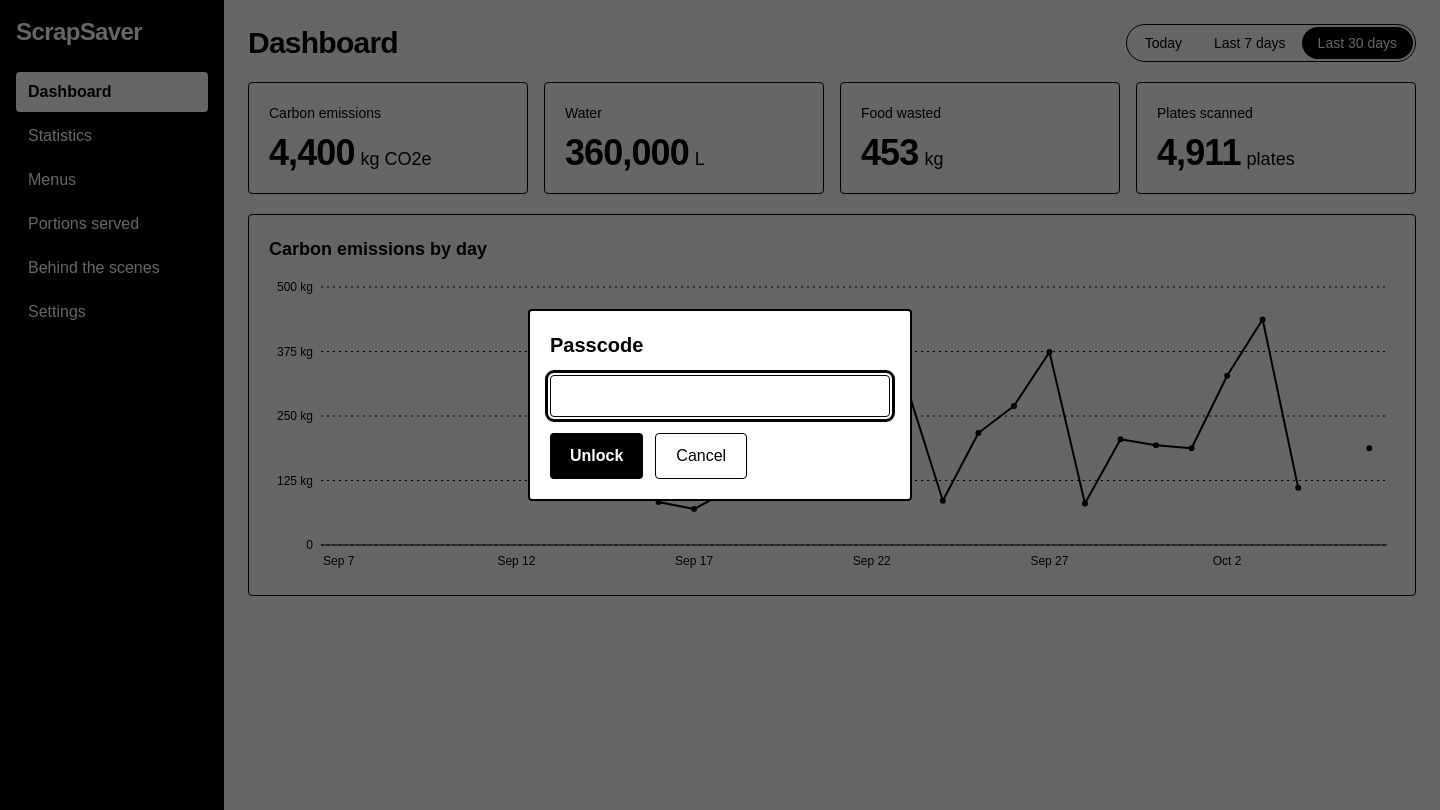
Test: owner access › the passcode prompt rejects an empty or wrong passcode and unlocks with the right one
Click the button "Unlock" at (597, 456), box [550,433,643,479]
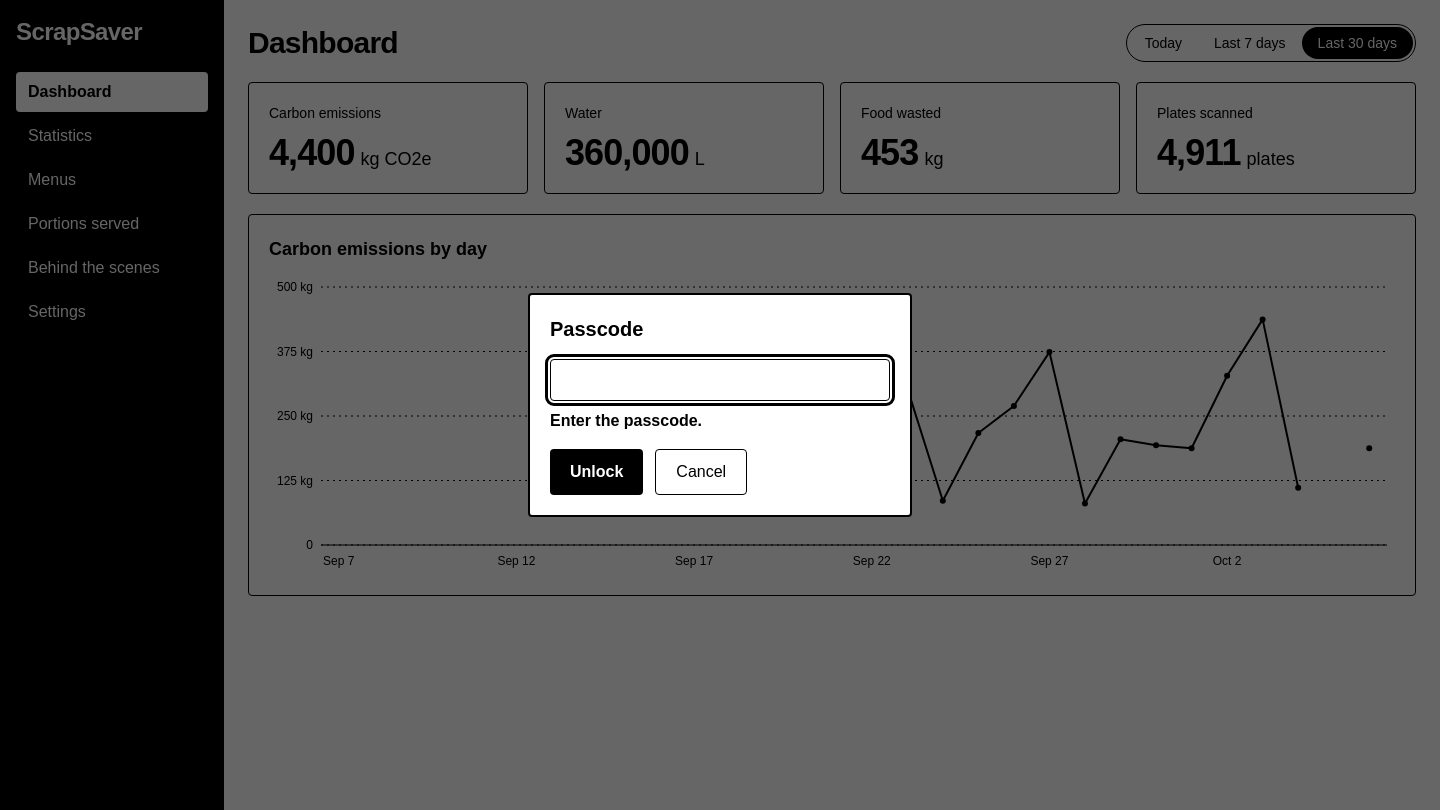
Result: the message reads "Enter the passcode." at [550,412,702,429]
Type "wrong" into the password field named "Passcode" at (720, 380), box [550,359,890,401]
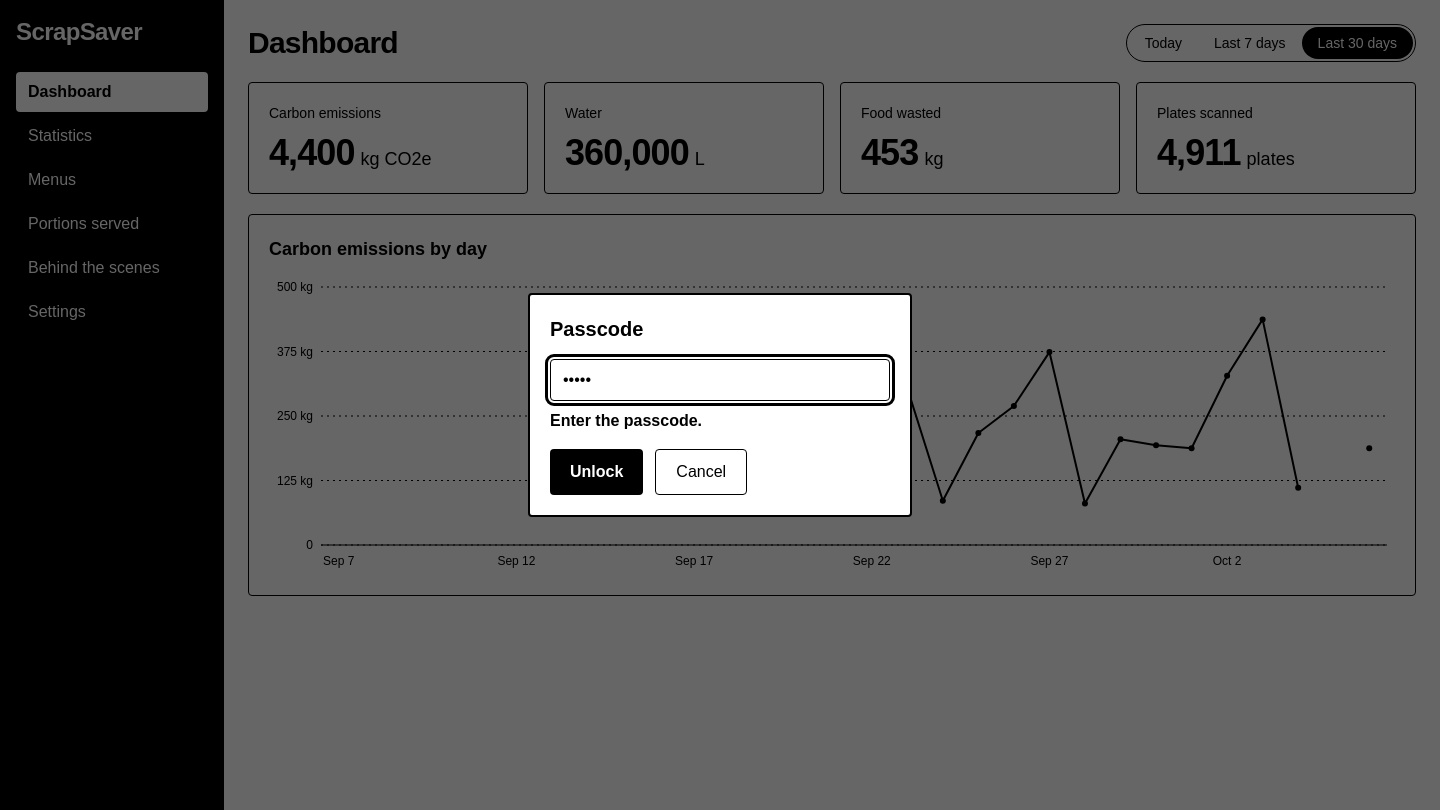
Click the button "Unlock" at (597, 472), box [550,449,643,495]
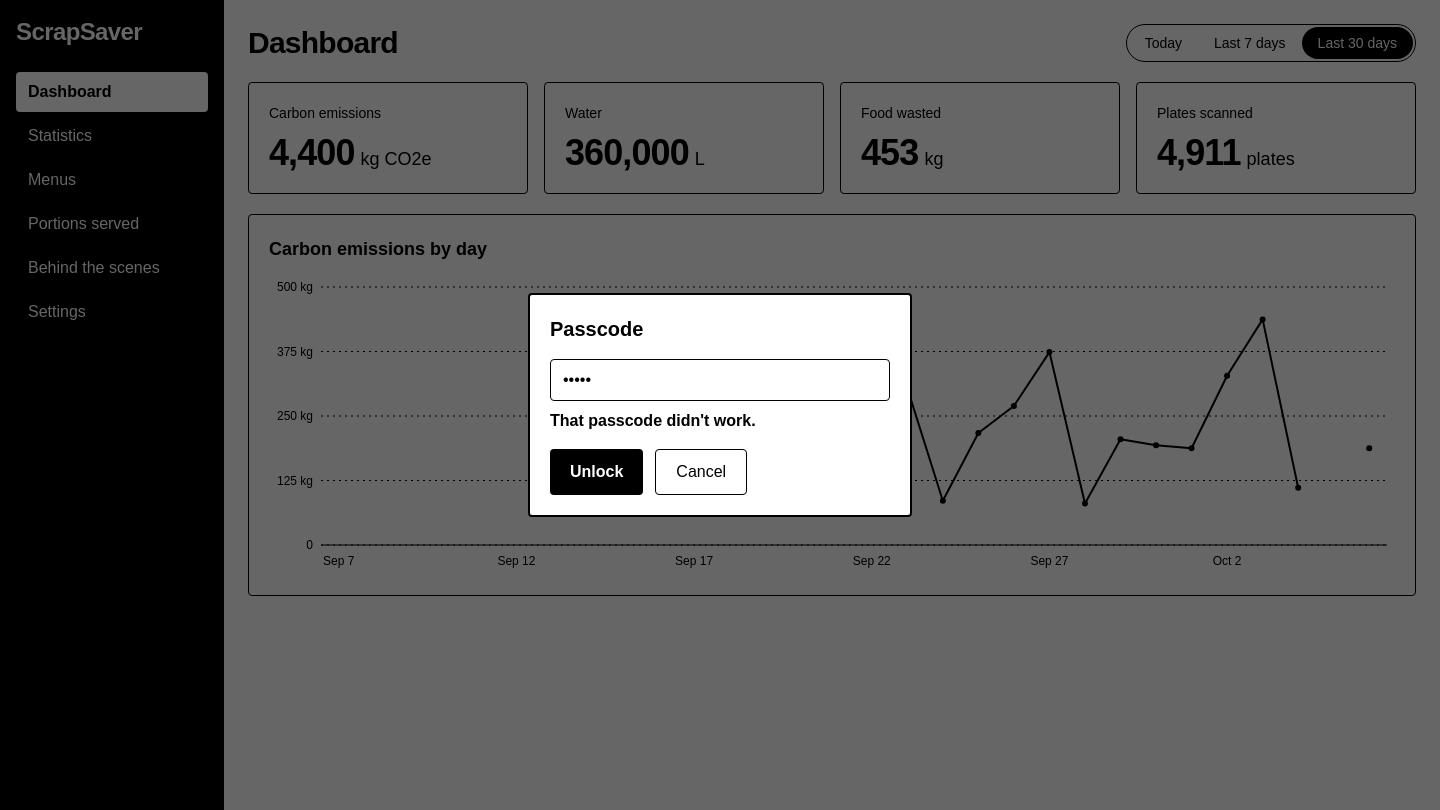
Result: the message reads "That passcode didn't work." at [550,412,756,429]
Type "scrapsaver" into the password field named "Passcode" at (720, 380), box [550,359,890,401]
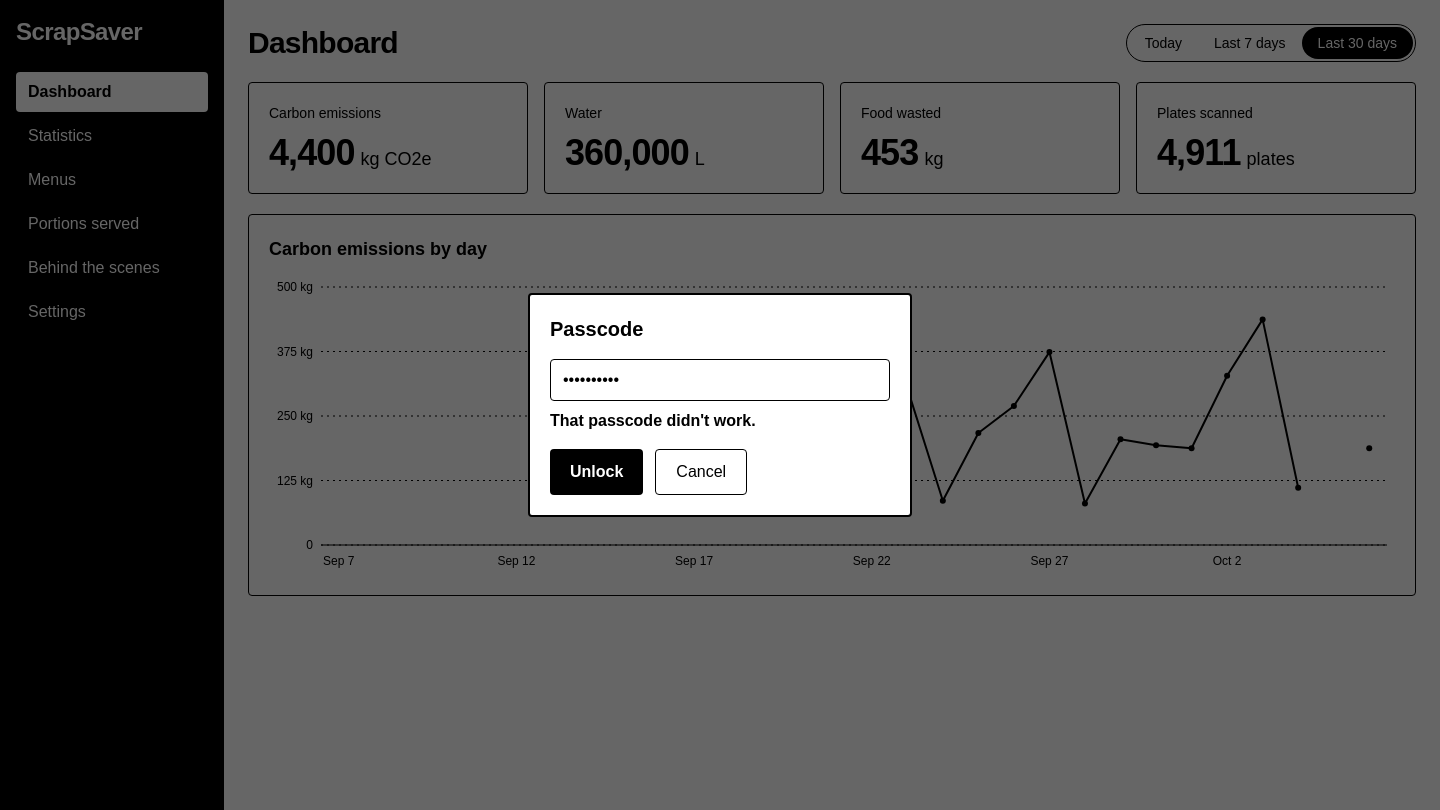
Click the button "Unlock" at (597, 472), box [550,449,643,495]
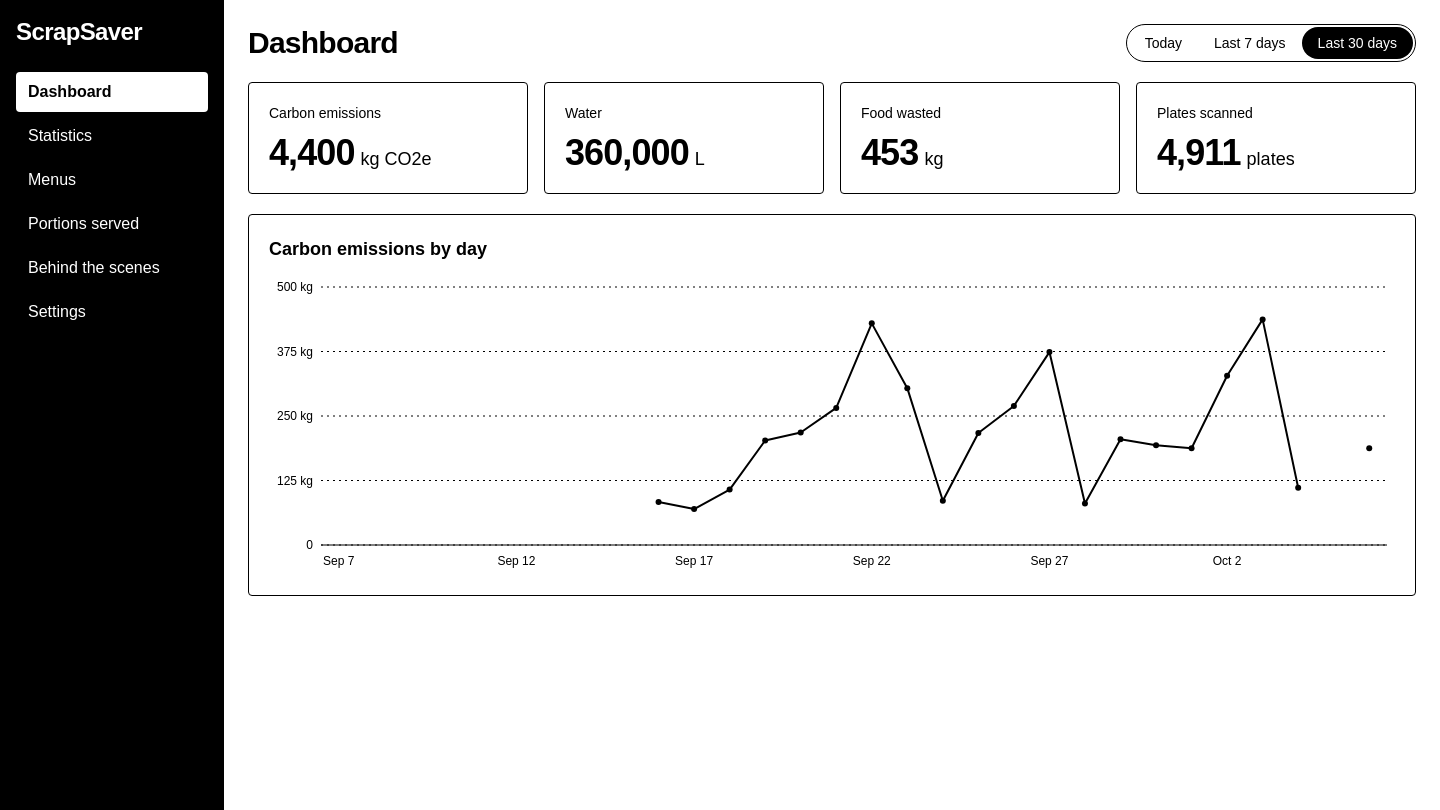
Result: the dialog is gone
